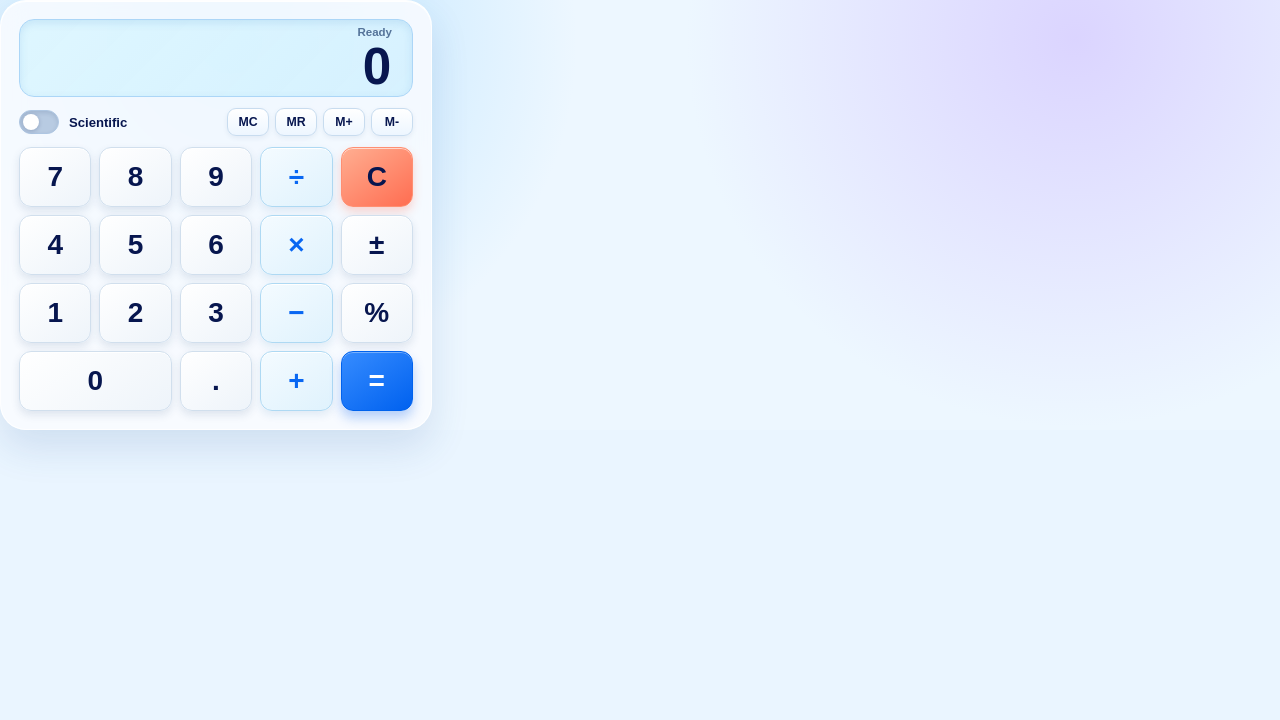
Test case: Calculator › reveals scientific controls
Click the switch labelled "Scientific": point(73, 122) [19,110,127,134]
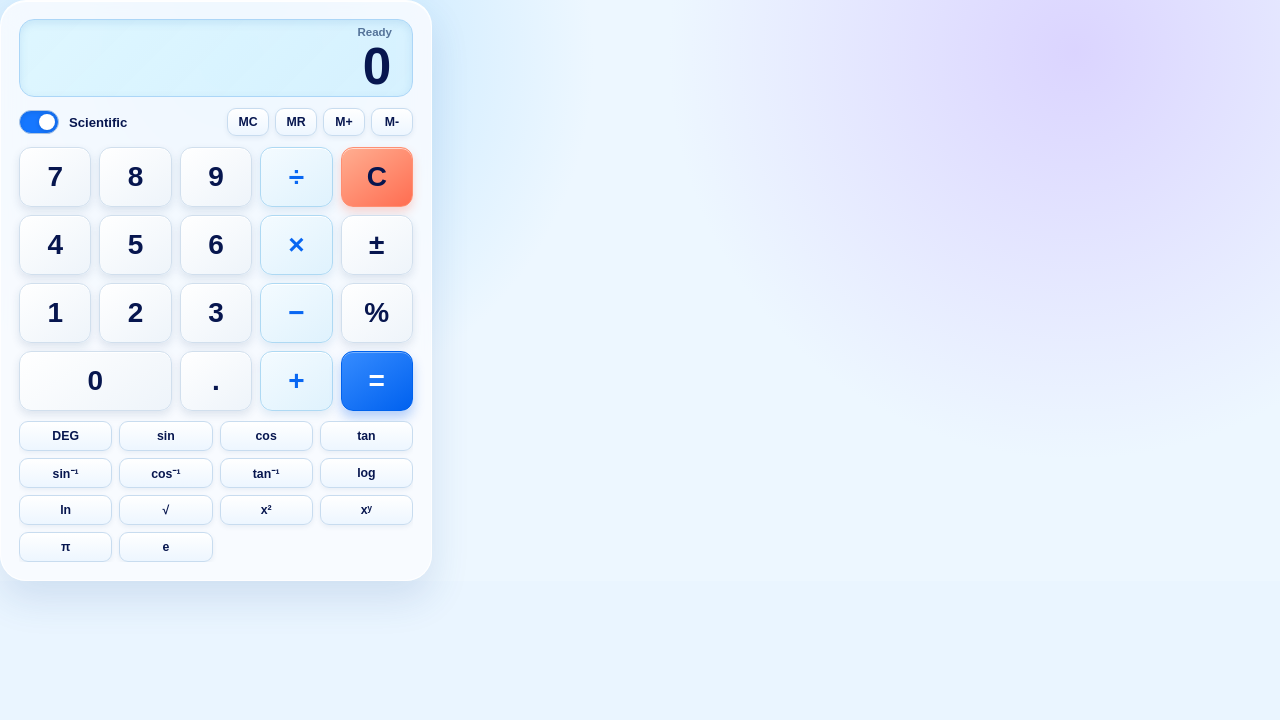
Result: the button with aria-label "Sine" is shown at [119,421,213,451]
Result: the button with aria-label "Angle mode" reads "DEG" at [19,421,112,451]
